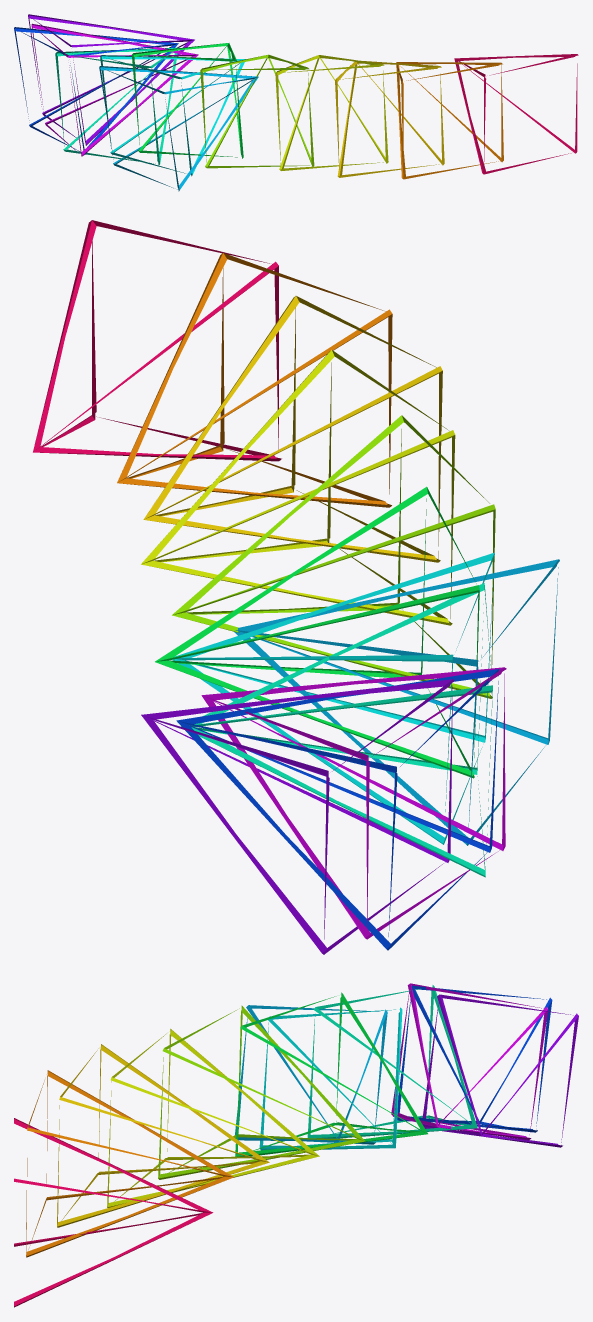
The model's file is glbscene_93.2_All_maskbFalse_maskwFalse_camTrue_skyFalse_predPointmap_Branch.glb.
The picture shows the model from 3 angles, top to bottom: view 1: azimuth 30°, elevation 25°; view 2: azimuth 150°, elevation 25°; view 3: azimuth 270°, elevation 25°; orthographic projection. The views are drawn at different scales.
Visible parts, largest first — view 1: world; view 2: world; view 3: world.
Boxes of the visible parts, <box> form: world: <box>14,14,578,191</box>; world: <box>33,220,559,954</box>; world: <box>14,983,578,1307</box>.
Bounding box in the file's own units: 0.2267 × 0.0834 × 0.2339.
